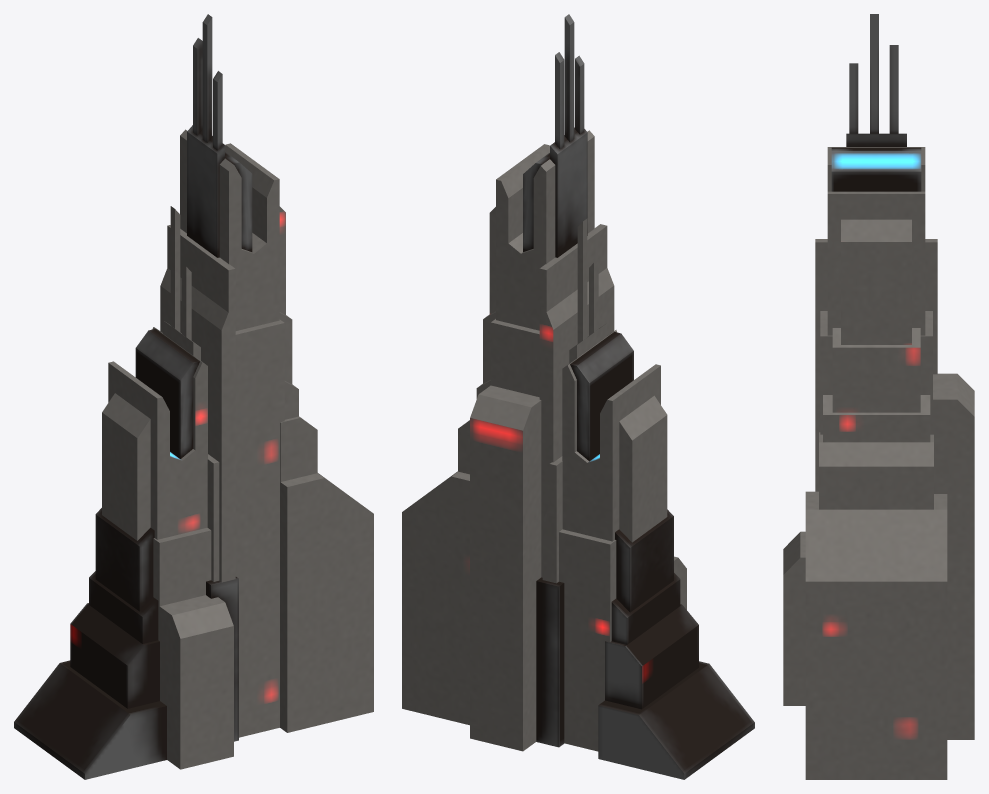
File: SM_BackgroundBuilding_012.fbx
The picture shows the model from 3 angles, left to right: view 1: azimuth 30°, elevation 25°; view 2: azimuth 150°, elevation 25°; view 3: azimuth 270°, elevation 25°; orthographic projection.
Parts seen in each view (by area): view 1: SM_BackgroundBuilding_012_LOD0; view 2: SM_BackgroundBuilding_012_LOD0; view 3: SM_BackgroundBuilding_012_LOD0.
Boxes of the visible parts, x1,y1,x2,y2 form: SM_BackgroundBuilding_012_LOD0: (14,14,373,779); SM_BackgroundBuilding_012_LOD0: (402,14,754,779); SM_BackgroundBuilding_012_LOD0: (783,14,974,779).
Bounding box in the file's own units: 1851 × 1070 × 4338.
1 material, 1 textured.
